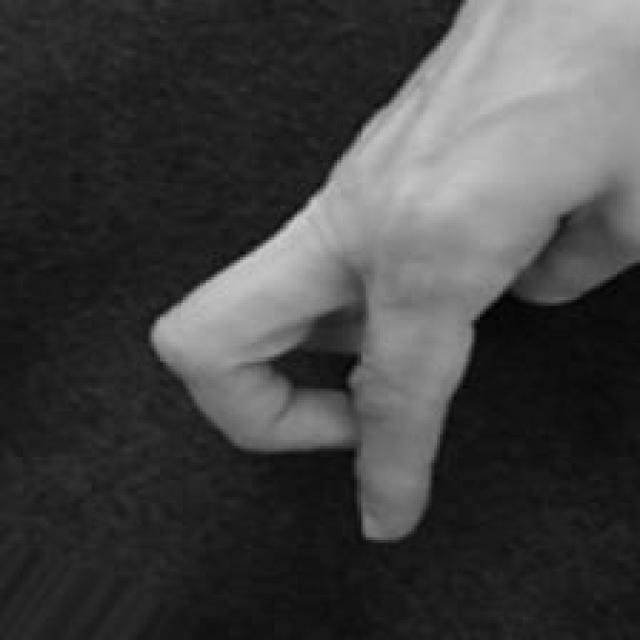P: (145, 0, 640, 557)
